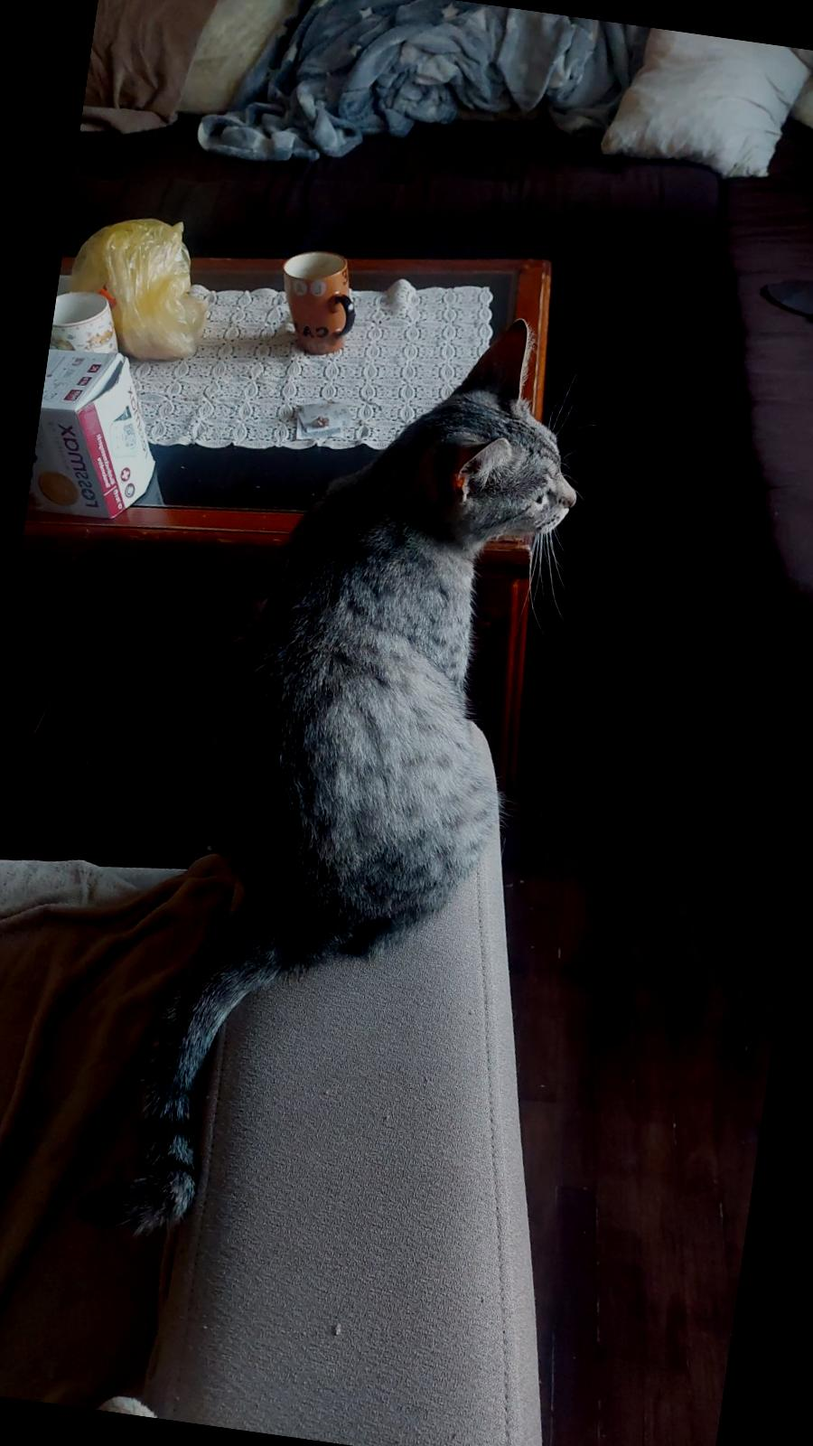macka: (74, 275, 607, 1287)
